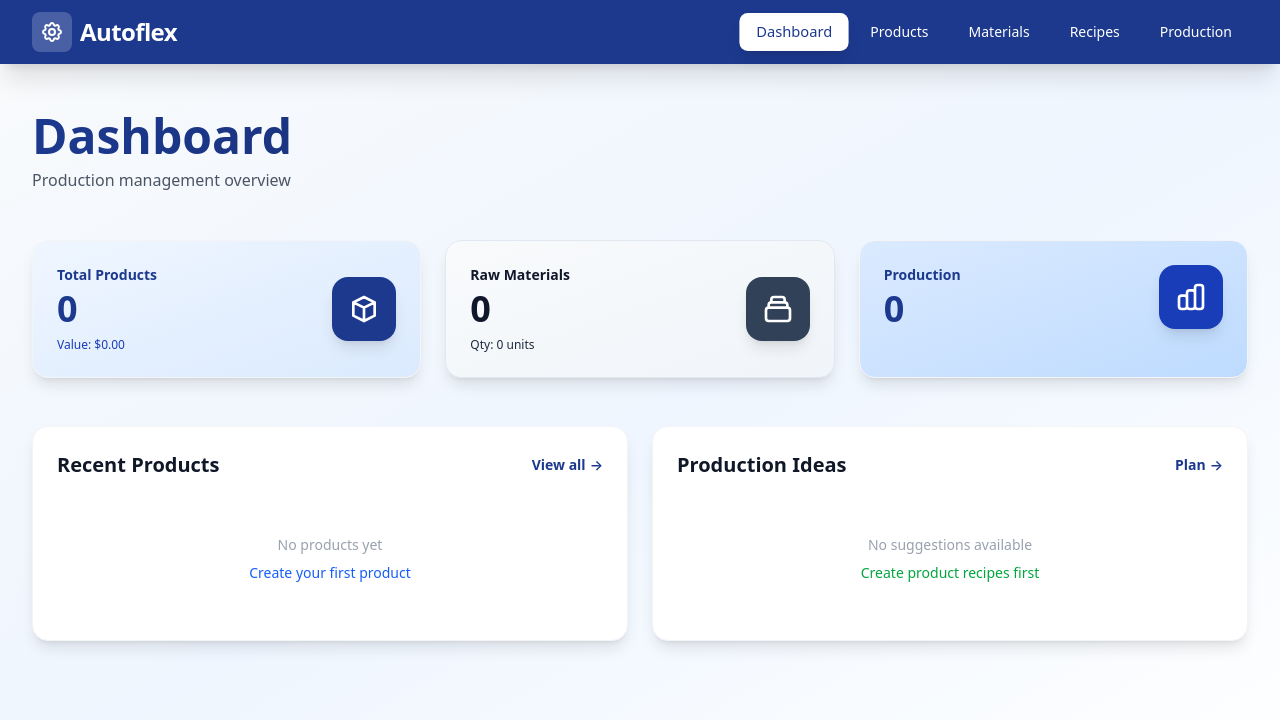
Test: Frontend Vue - Navigation › Navbar Link Navigation › should navigate to Products page via navbar
The width and height of the screenshot is (1280, 720).
Click the link "Products" at (899, 32), box [870, 22, 928, 41]
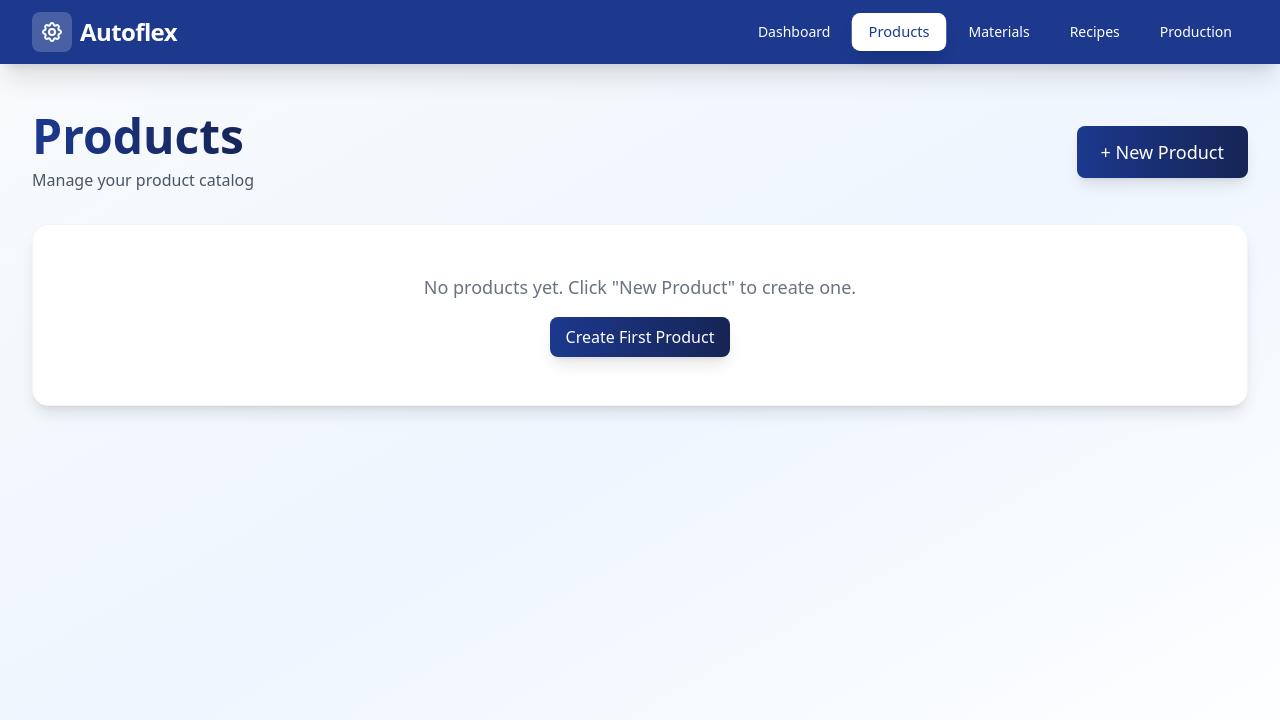
expect the heading "Products" is shown: met, box [32, 112, 254, 160]
